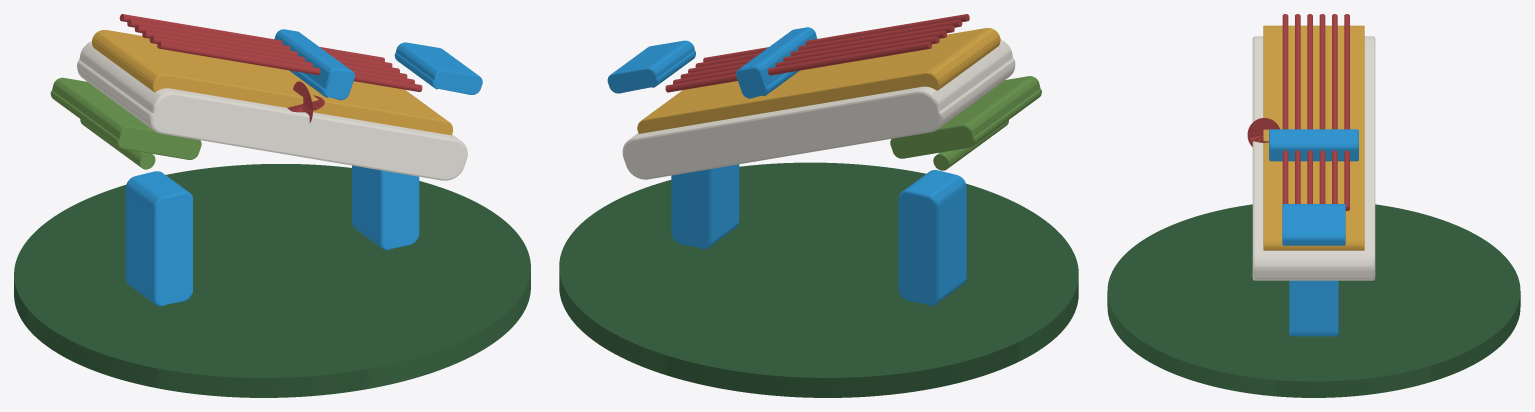
Rendered from 1191_唐图鉴_紫檀木画槽四弦琵琶.glb.
The picture shows the model from 3 angles, left to right: view 1: azimuth 30°, elevation 25°; view 2: azimuth 150°, elevation 25°; view 3: azimuth 270°, elevation 25°; orthographic projection. The views are drawn at different scales.
Parts seen in each view (by area): view 1: card_1191; view 2: card_1191; view 3: card_1191.
Boxes of the visible parts, bbox=[...] form: card_1191: bbox=[14, 14, 530, 397]; card_1191: bbox=[559, 14, 1078, 397]; card_1191: bbox=[1107, 14, 1520, 397].
Size of the model in its own units: 1.61 by 1 by 1.55.
